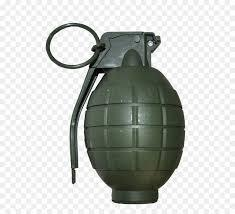Grenade: (44, 20, 185, 203)
